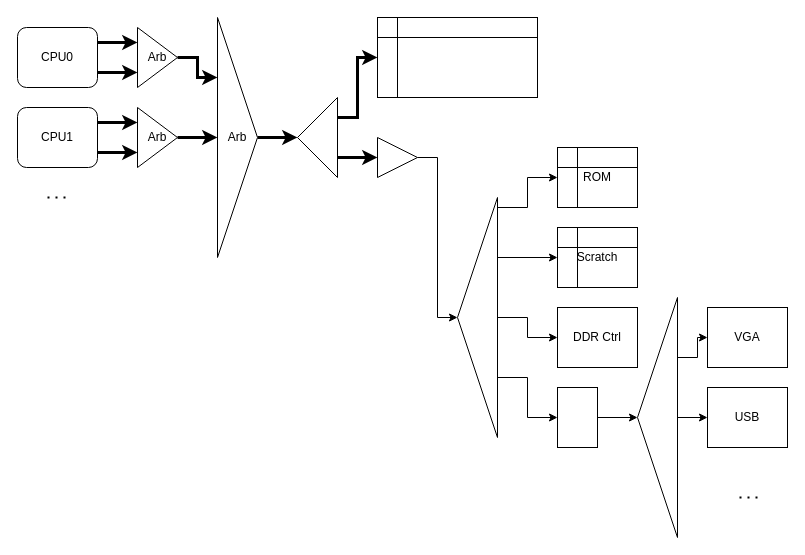
The diagram is 805 pixels wide and 555 high, and some of its shapes have lost their labels. The shapes that lost their labels are listed below. From the top down, each one's centre as x and y in pixels, then its label:
At (457,57): "DDR3".
At (397,157): "Narrow".
At (577,417): "Reg".
